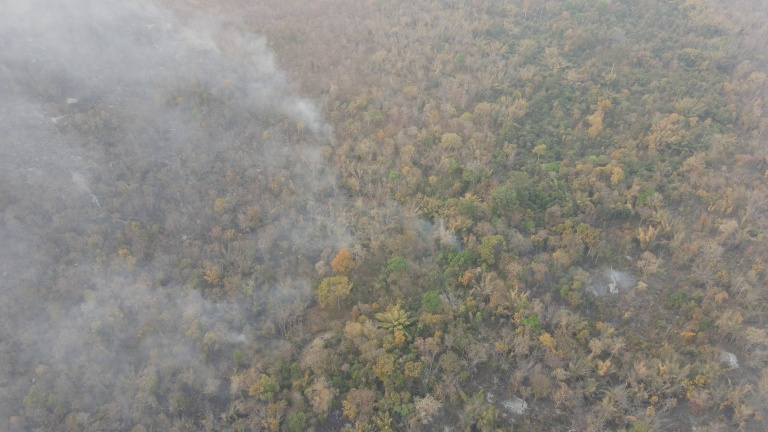smoke: (1, 1, 360, 431), (381, 205, 464, 255), (590, 263, 647, 298)
